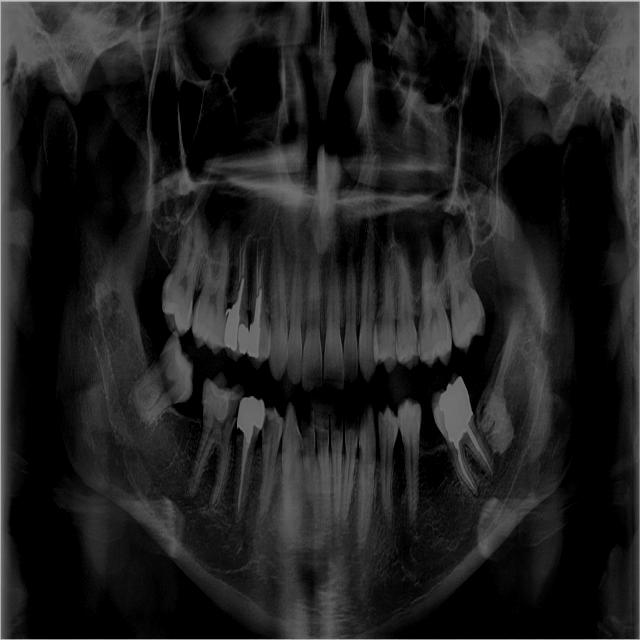Caries: (228, 399, 239, 426), (263, 414, 272, 444)
Filling: (439, 376, 473, 450), (237, 395, 266, 443), (202, 381, 228, 421), (224, 299, 240, 351), (247, 321, 260, 359), (238, 324, 249, 354)
Missing teeth: (418, 401, 447, 453), (176, 379, 207, 419)
Root Canal Treatment: (238, 434, 250, 513), (457, 442, 475, 491), (478, 445, 492, 476), (256, 240, 259, 296), (259, 250, 263, 287), (242, 244, 246, 277), (239, 238, 241, 282)
Root Piece: (474, 385, 514, 456)
impacted tooth: (130, 333, 194, 421)
